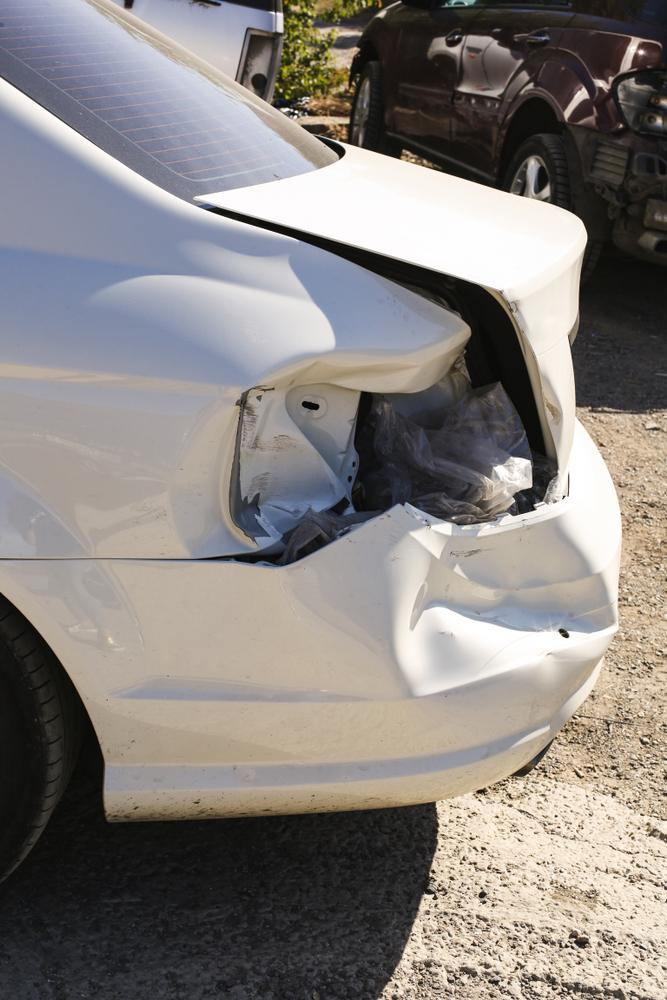dent: (167, 350, 415, 553), (386, 516, 615, 696)
